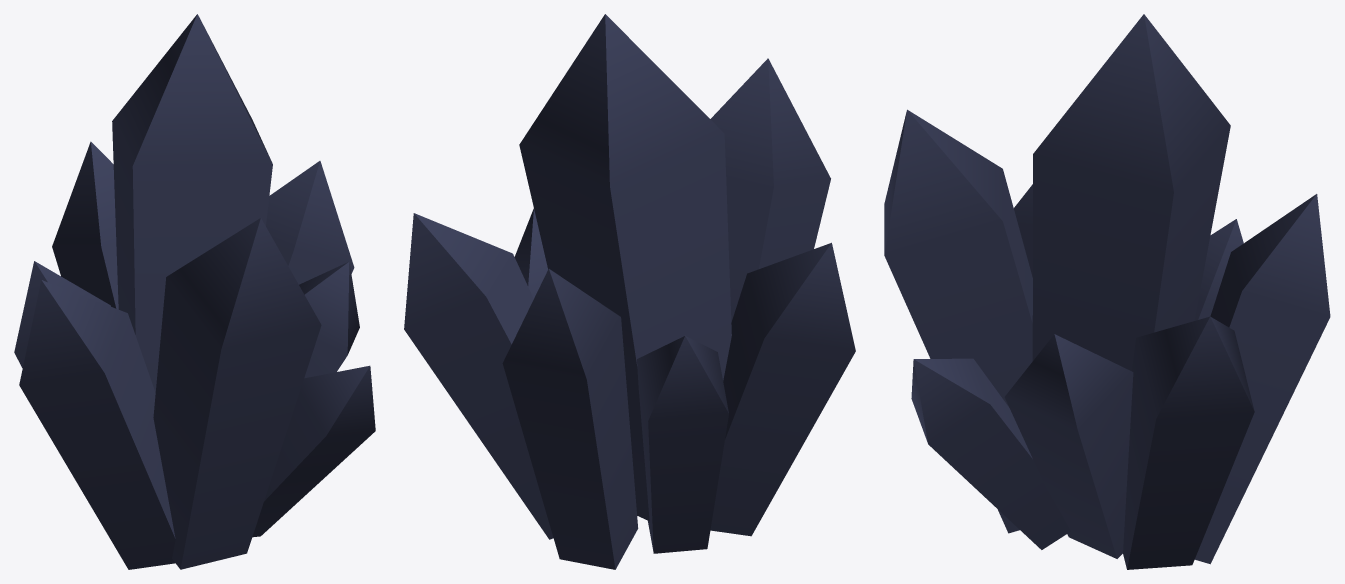
File: SpikeAttack.fbx
3 renders of one model, left to right at view 1: azimuth 30°, elevation 25°; view 2: azimuth 150°, elevation 25°; view 3: azimuth 270°, elevation 25°, orthographic. The views are drawn at different scales.
Parts seen in each view (by area): view 1: pCube3, pCube1, pCube7, pCube8, pCube9, pCube2, pCube6, pCube4; view 2: pCube1, pCube9, pCube7, pCube2, pCube3, pCube4, pCube6; view 3: pCube1, pCube3, pCube2, pCube9, pCube6, pCube8, pCube4, pCube7.
Part boxes in pixels (box(x1,y1,x2,y2)): pCube3: box(153, 218, 321, 569); pCube1: box(112, 14, 272, 392); pCube7: box(19, 280, 175, 569); pCube8: box(252, 365, 375, 537); pCube9: box(52, 141, 118, 309); pCube2: box(266, 161, 354, 284); pCube6: box(299, 262, 359, 378); pCube4: box(14, 261, 110, 367); pCube1: box(519, 14, 731, 521); pCube9: box(502, 269, 638, 569); pCube7: box(710, 242, 855, 536); pCube2: box(404, 213, 553, 539); pCube3: box(710, 58, 830, 322); pCube4: box(637, 336, 728, 553); pCube6: box(514, 208, 547, 298); pCube1: box(1032, 14, 1230, 371); pCube3: box(884, 109, 1032, 533); pCube2: box(1123, 316, 1254, 569); pCube9: box(1195, 194, 1330, 564); pCube6: box(1004, 334, 1133, 558); pCube8: box(911, 358, 1070, 549); pCube4: box(1194, 219, 1243, 320); pCube7: box(1014, 184, 1032, 277).
Bounding box in the file's own units: 41.31 × 53.65 × 39.86.
